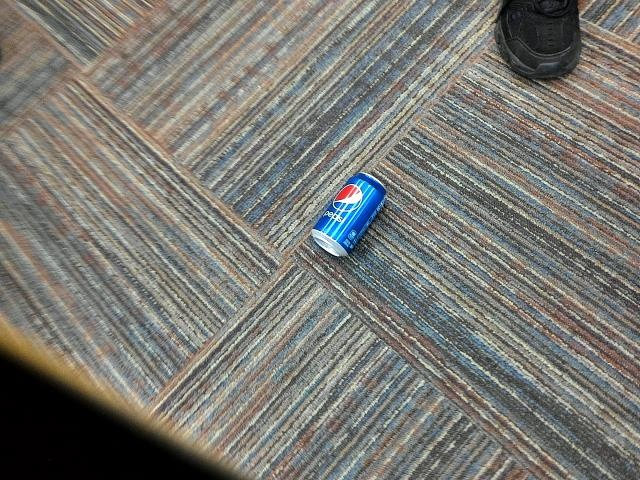can: (306, 168, 400, 273)
